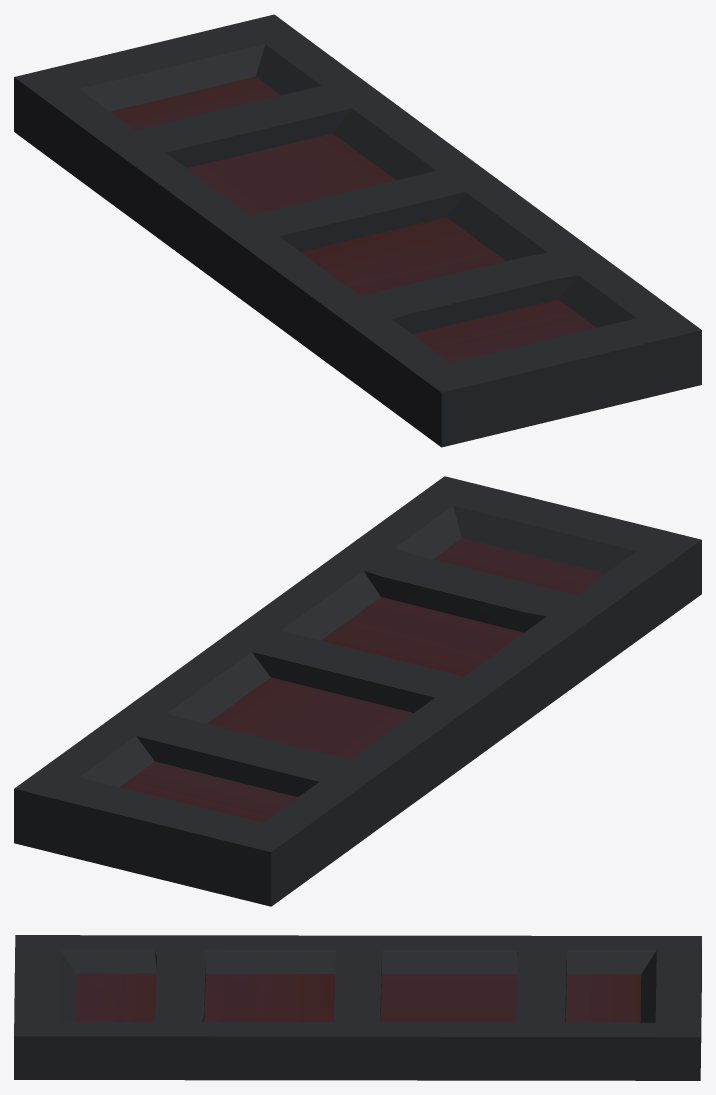
The model's file is Drainage.fbx.
The picture shows the model from 3 angles, top to bottom: view 1: azimuth 30°, elevation 25°; view 2: azimuth 150°, elevation 25°; view 3: azimuth 270°, elevation 25°; orthographic projection. The views are drawn at different scales.
Visible parts, largest first — view 1: plaqueEgout2__1_.030; view 2: plaqueEgout2__1_.030; view 3: plaqueEgout2__1_.030.
Part boxes in pixels (x1,y1,x2,y2): plaqueEgout2__1_.030: [14, 14, 701, 447]; plaqueEgout2__1_.030: [14, 476, 701, 906]; plaqueEgout2__1_.030: [14, 935, 701, 1080].
Size of the model in its own units: 38.54 by 7.7 by 110.
